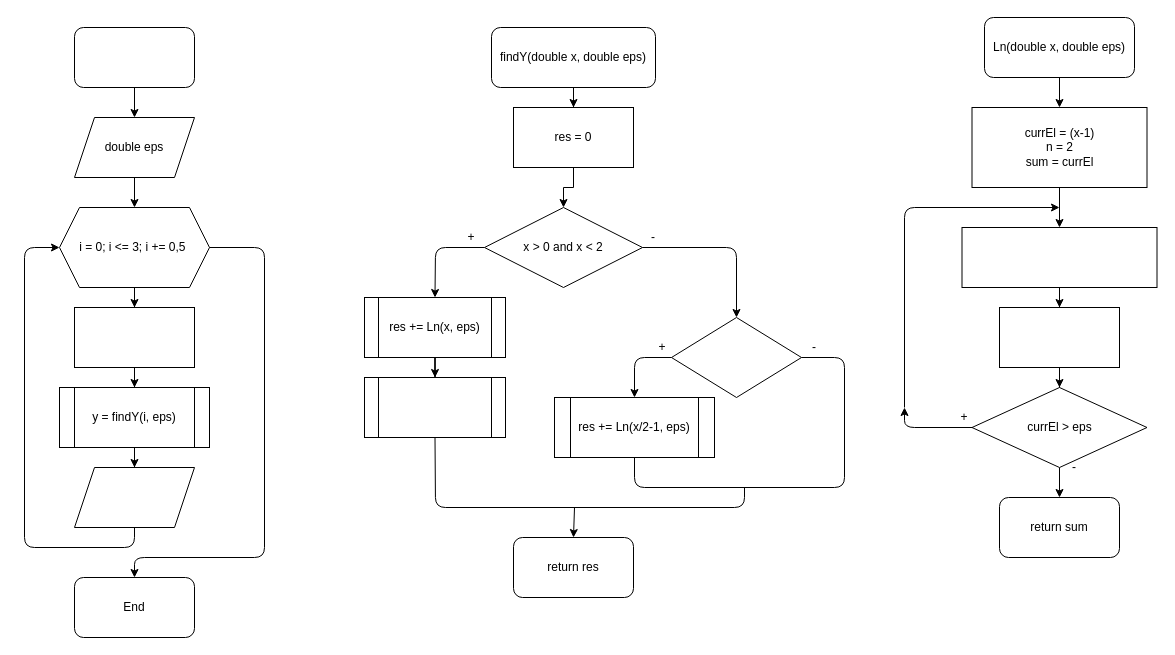
The diagram is 1175 pixels wide and 655 high, and some of its shapes have lost their labels. Each missing label, with the box of its shape:
currEl = (-1)^(n-1)*((x-1)^n)/n: (961, 226, 1157, 288)
double y: (74, 306, 194, 368)
i, y: (74, 466, 194, 528)
res += Ln(x/2, eps): (364, 376, 506, 438)
Start: (74, 26, 194, 88)
sum += currEl n++: (998, 306, 1120, 368)
x >= 2: (670, 316, 802, 398)
